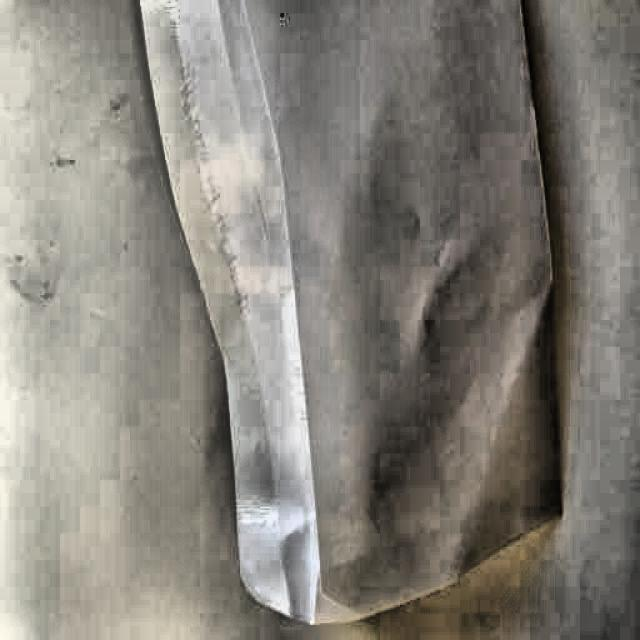paper: (130, 0, 571, 618)
